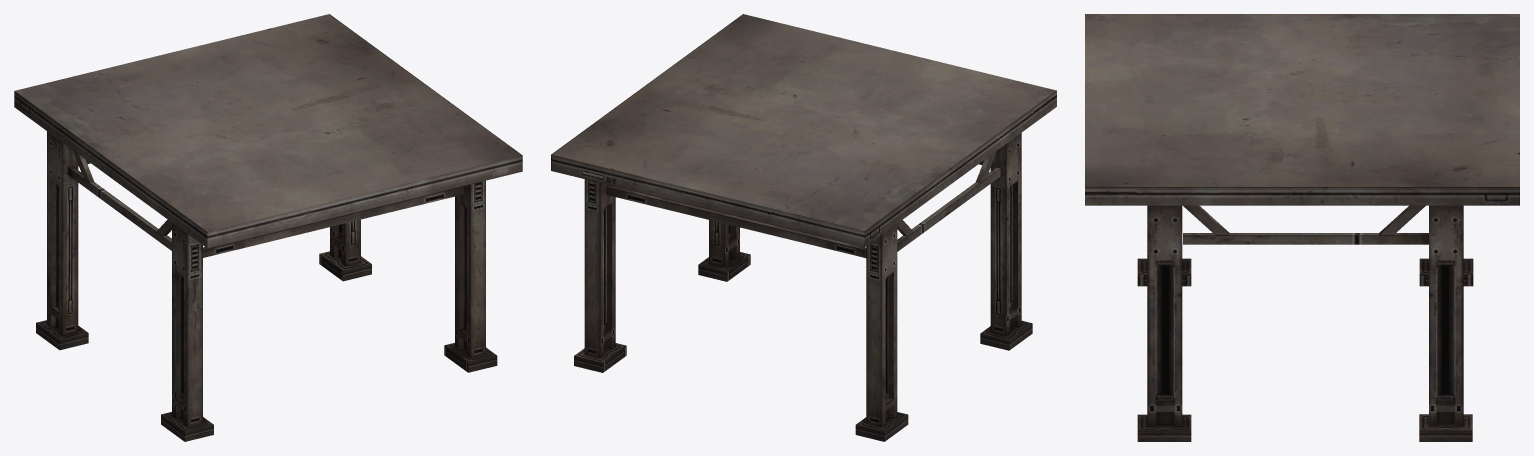
The model's file is table_lab_small.dae.
3 views of the same model, side by side, from view 1: azimuth 30°, elevation 25°; view 2: azimuth 150°, elevation 25°; view 3: azimuth 270°, elevation 25° (orthographic). The views are drawn at different scales.
Visible parts, largest first — view 1: Mesh; view 2: Mesh; view 3: Mesh.
Part boxes in pixels (x1=…): Mesh: x1=14, y1=14, x2=522, y2=441; Mesh: x1=551, y1=14, x2=1056, y2=441; Mesh: x1=1085, y1=14, x2=1519, y2=441.
Bounding box in the file's own units: 1.53 × 1.05 × 1.62.
